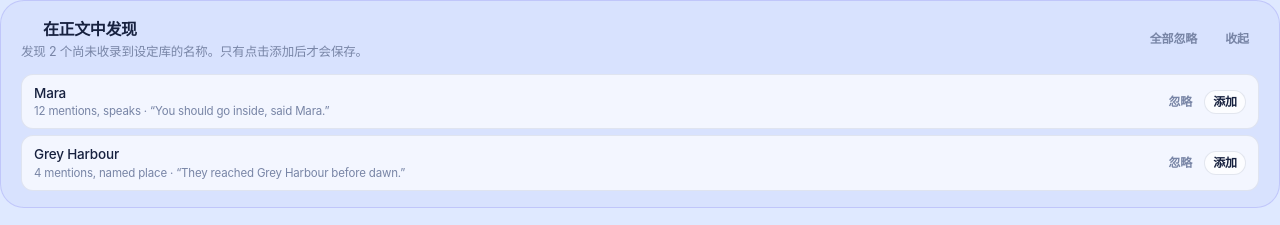
dismissing is as cheap as accepting and writes nothing
The image size is (1280, 225).
Click the button with aria-label "忽略 Mara": click(1180, 102) top-left (1160, 90), bottom-right (1200, 114)
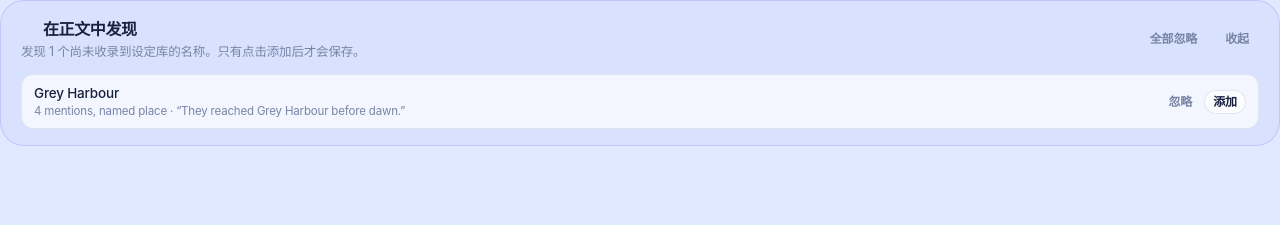
Check: the text "Mara" is gone
